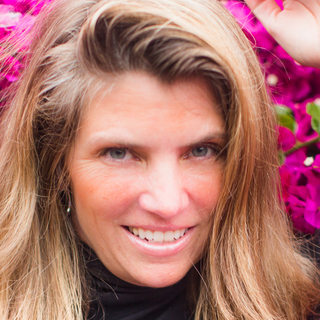eye: (92, 142, 145, 165), (181, 140, 229, 163)
